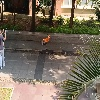fire: (43, 35, 50, 42)
